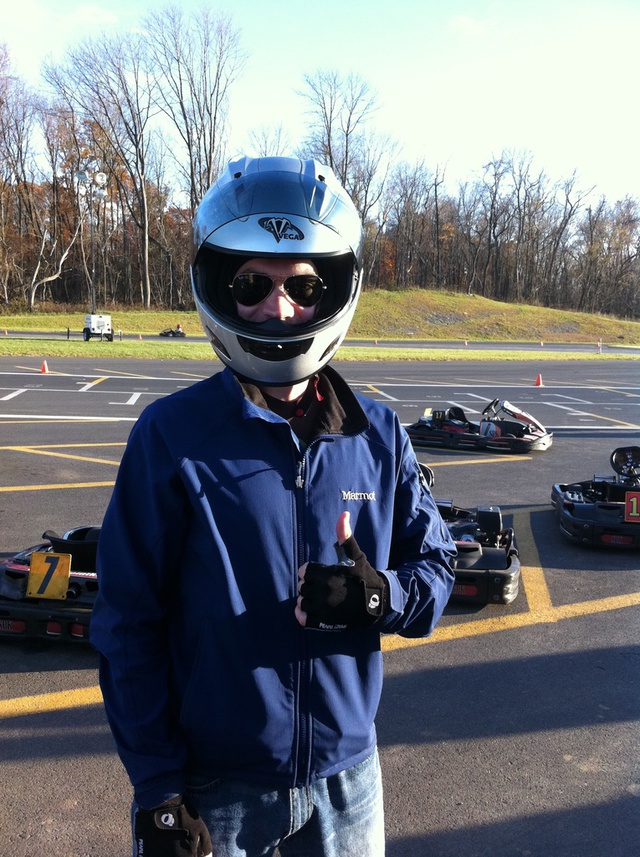helmet: (193, 166, 362, 368)
